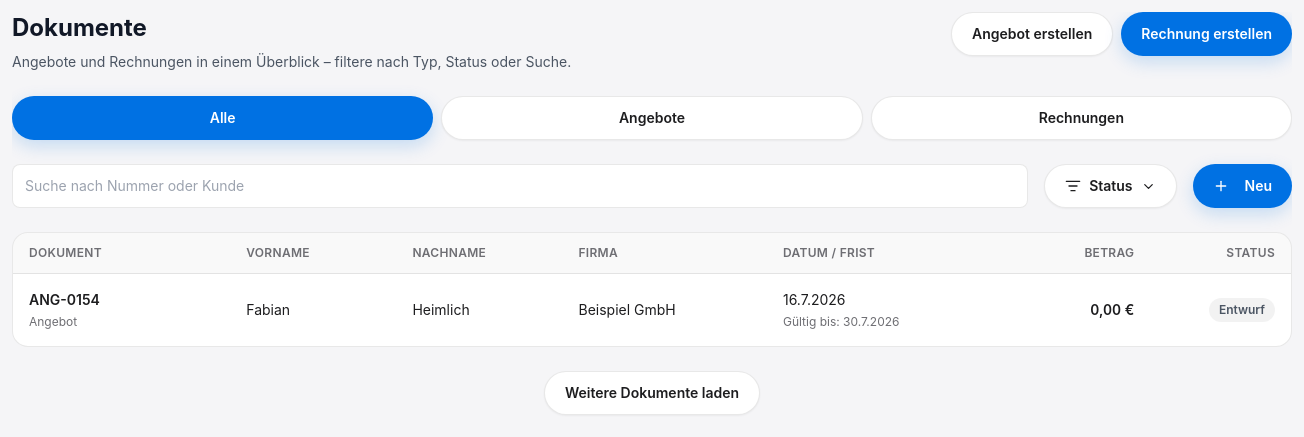
DocumentsHubPage table view › loads the next cursor page without replacing documents already shown
The width and height of the screenshot is (1304, 437).
Expected: the text "ANG-0154" is shown, [29,291,100,308]
Step 1. Click the button "Weitere Dokumente laden" → (652, 393), box [544,371,760,415]
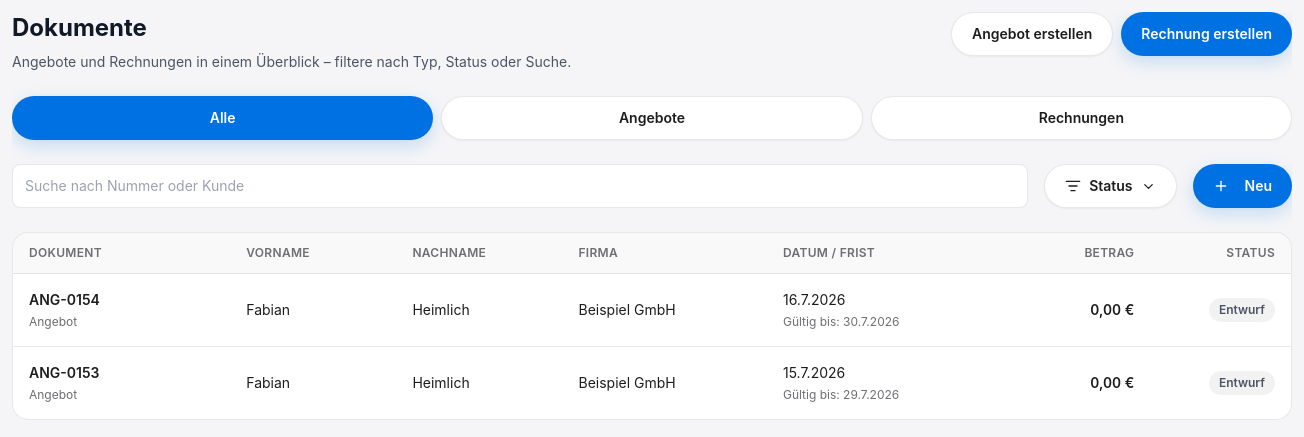
Expected: the text "ANG-0154" is shown, [29,291,100,308]
Result: the text "ANG-0153" is shown at [29,364,100,381]
